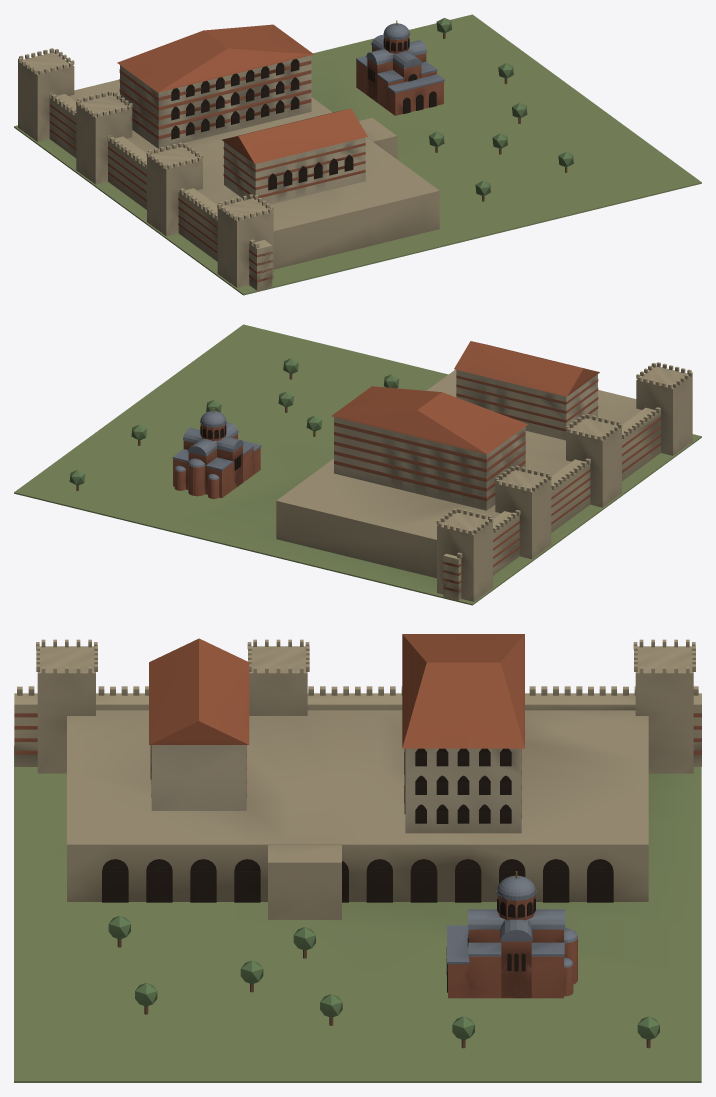
The model's file is blachernae.glb.
3 renders of one model, top to bottom at view 1: azimuth 30°, elevation 25°; view 2: azimuth 150°, elevation 25°; view 3: azimuth 270°, elevation 25°, orthographic. The views are drawn at different scales.
Visible parts, largest first — view 1: p0_terrace, p1_palace, p2_church; view 2: p0_terrace, p1_palace, p2_church; view 3: p0_terrace, p1_palace, p2_church.
Boxes of the visible parts, bbox=[...] form: p0_terrace: bbox=[14, 14, 701, 295]; p1_palace: bbox=[117, 24, 367, 205]; p2_church: bbox=[356, 18, 573, 201]; p0_terrace: bbox=[14, 324, 701, 605]; p1_palace: bbox=[331, 341, 599, 510]; p2_church: bbox=[69, 358, 399, 498]; p0_terrace: bbox=[14, 639, 701, 1082]; p1_palace: bbox=[149, 634, 524, 833]; p2_church: bbox=[108, 845, 659, 1048].
Bounding box in the file's own units: 150 × 36.4 × 130.
